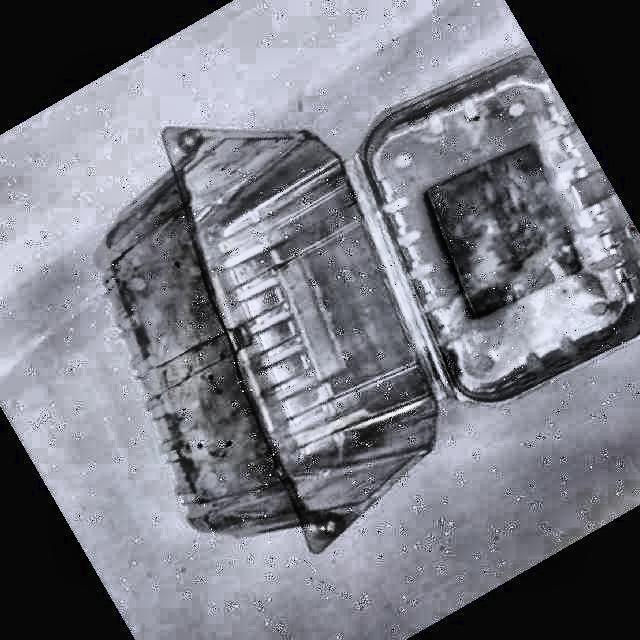plastic: (105, 55, 640, 552)
